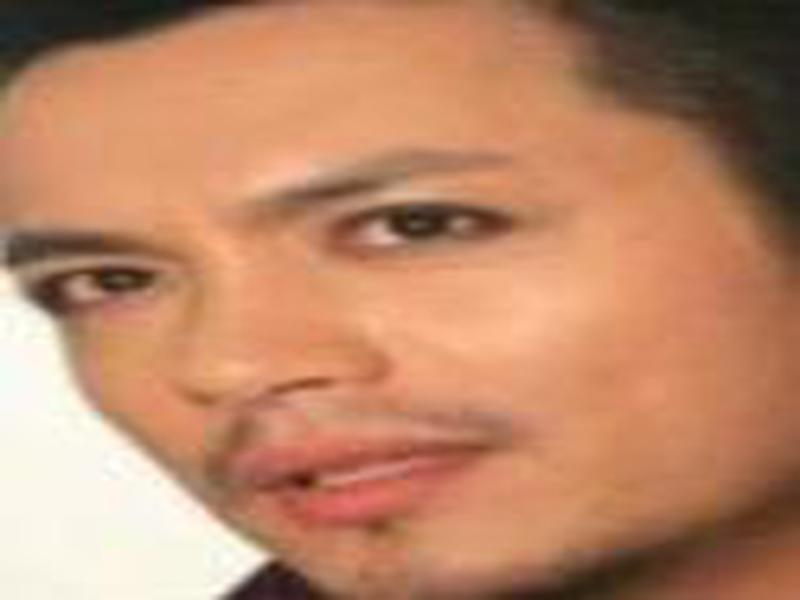without_mask: (2, 97, 800, 600)
